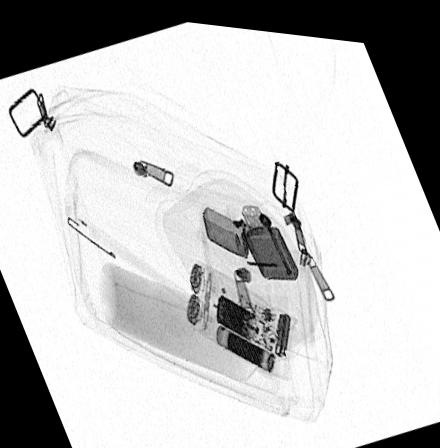Lighter: (202, 196, 299, 272)
